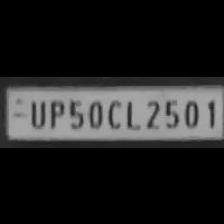0: (179, 95, 201, 127), (84, 95, 104, 127)
1: (201, 96, 221, 128)
2: (140, 96, 162, 130)
5: (64, 96, 84, 128), (160, 96, 180, 128)
C: (104, 96, 122, 128)
L: (120, 96, 140, 130)
P: (45, 96, 65, 128)
U: (25, 96, 47, 128)
